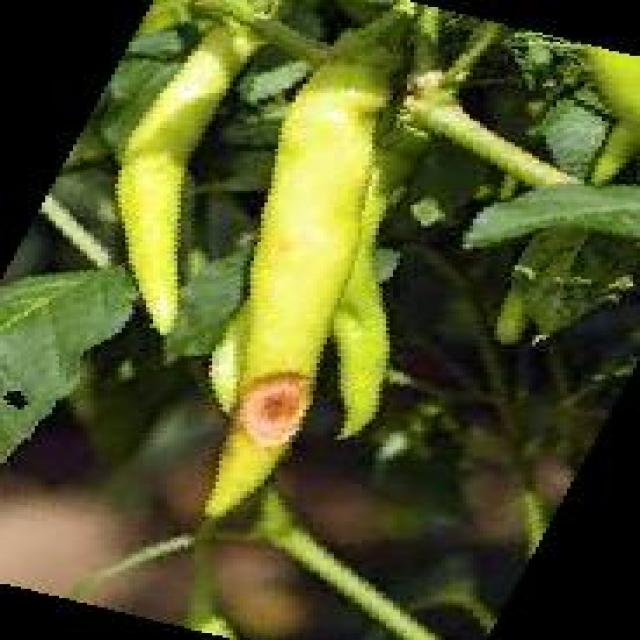Moko: (220, 352, 336, 468)
